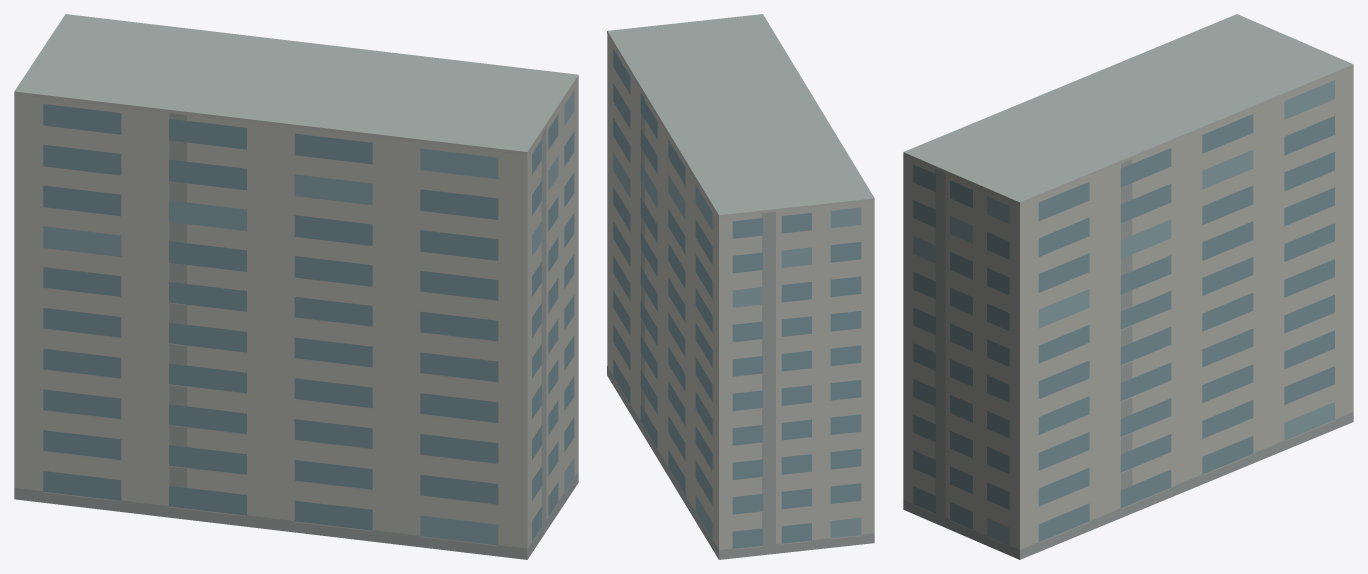
File: residential-3519570a-182c-4bab-8a11-30fd4d24670d.glb
3 renders of one model, left to right at view 1: azimuth 30°, elevation 25°; view 2: azimuth 150°, elevation 25°; view 3: azimuth 270°, elevation 25°, orthographic. The views are drawn at different scales.
Visible parts, largest first — view 1: residential-3519570a-182c-4bab-8a11-30fd4d24670d.tmp; view 2: residential-3519570a-182c-4bab-8a11-30fd4d24670d.tmp; view 3: residential-3519570a-182c-4bab-8a11-30fd4d24670d.tmp.
Part boxes in pixels (x1,y1,x2,y2): residential-3519570a-182c-4bab-8a11-30fd4d24670d.tmp: (14, 14, 578, 559); residential-3519570a-182c-4bab-8a11-30fd4d24670d.tmp: (607, 14, 874, 559); residential-3519570a-182c-4bab-8a11-30fd4d24670d.tmp: (903, 14, 1353, 559).
Bounding box in the file's own units: 33.92 × 30 × 34.27.
